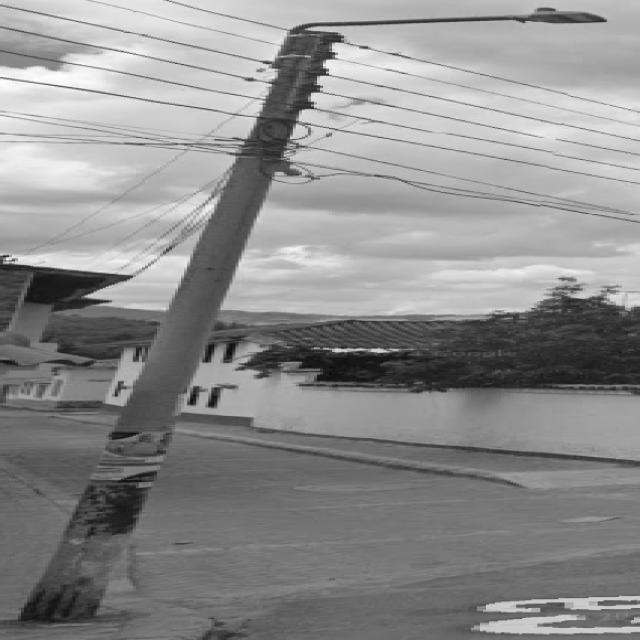Fachada: (184, 319, 462, 425), (6, 360, 118, 407), (106, 343, 145, 406)
Poste: (21, 8, 604, 621)
